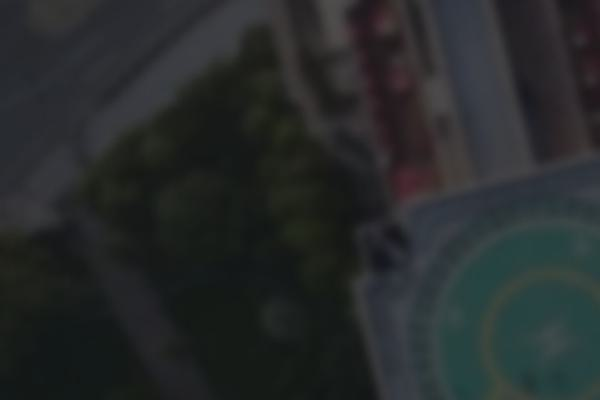Apron: (474, 267, 599, 400)
